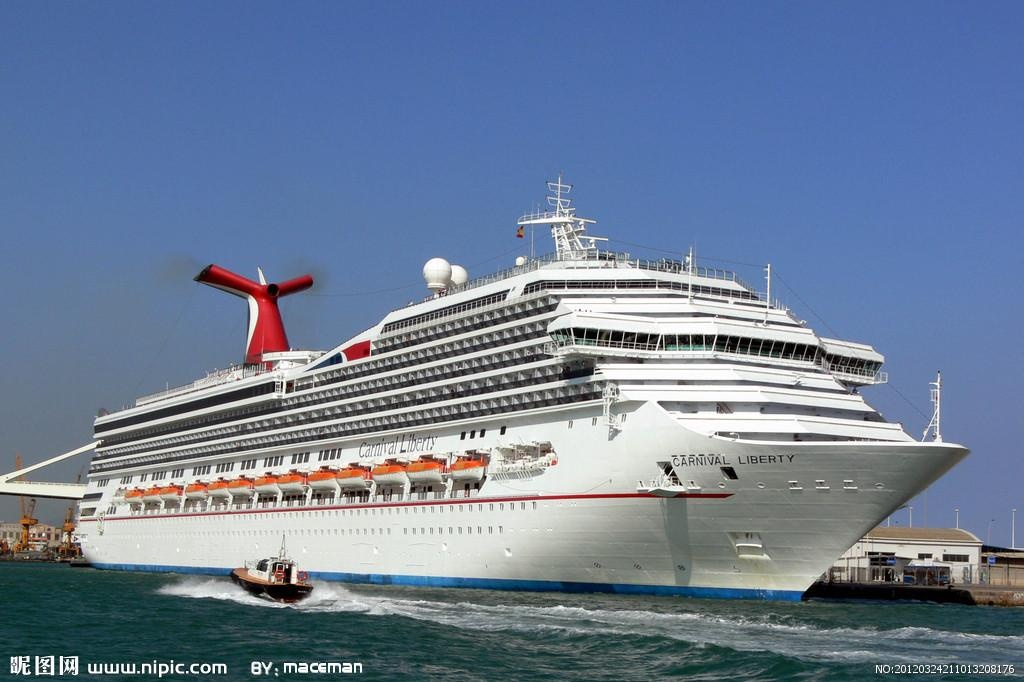yacht: (224, 534, 319, 602)
youlun: (56, 170, 975, 584)
